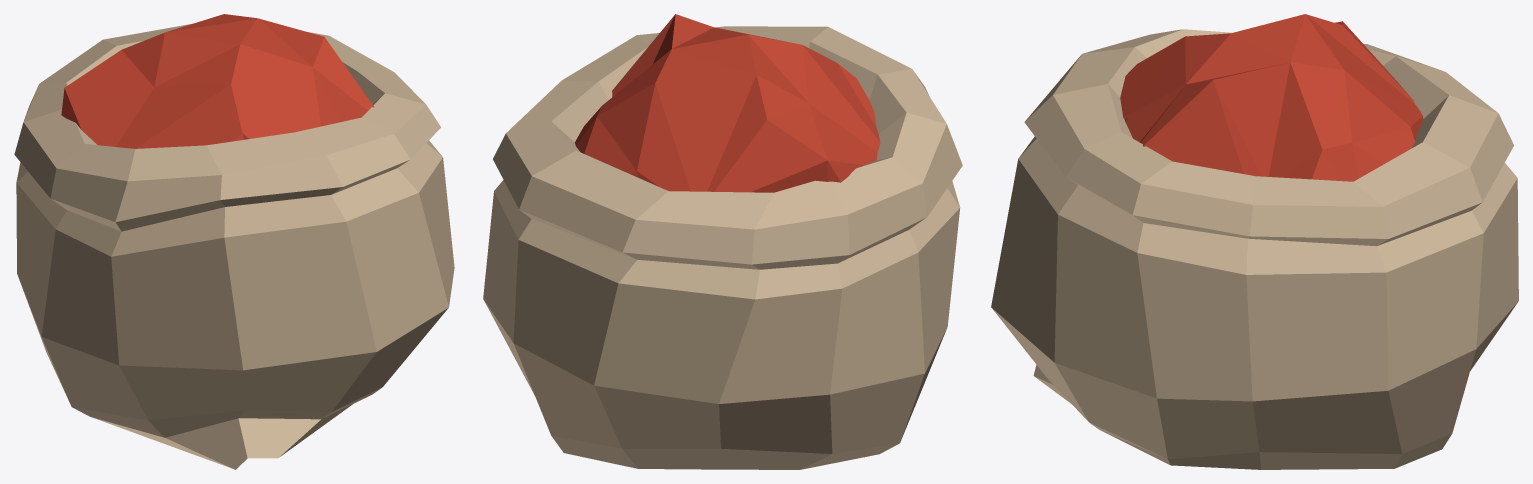
The model's file is SM_Prop_Sack_01.fbx.
The picture shows the model from 3 angles, left to right: view 1: azimuth 30°, elevation 25°; view 2: azimuth 150°, elevation 25°; view 3: azimuth 270°, elevation 25°; orthographic projection. The views are drawn at different scales.
Visible parts, largest first — view 1: SM_Prop_Sack_01; view 2: SM_Prop_Sack_01; view 3: SM_Prop_Sack_01.
Boxes of the visible parts, box(x1,y1,x2,y2) form: SM_Prop_Sack_01: box(14, 14, 454, 469); SM_Prop_Sack_01: box(483, 14, 962, 469); SM_Prop_Sack_01: box(991, 14, 1518, 469).
Bounding box in the file's own units: 69.9 × 62.34 × 77.47.
